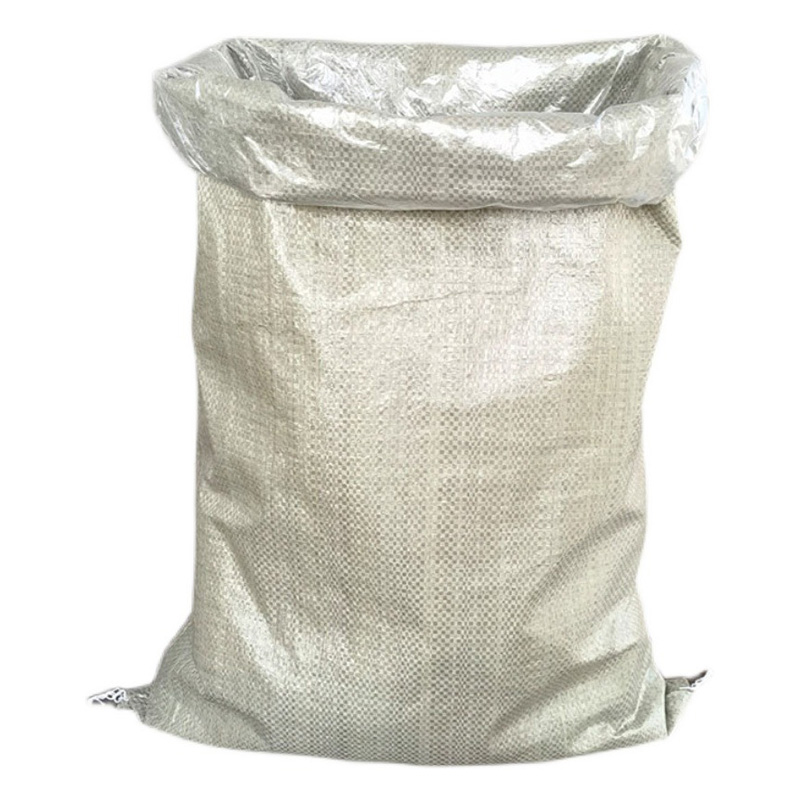塑料袋: (109, 36, 696, 764)
